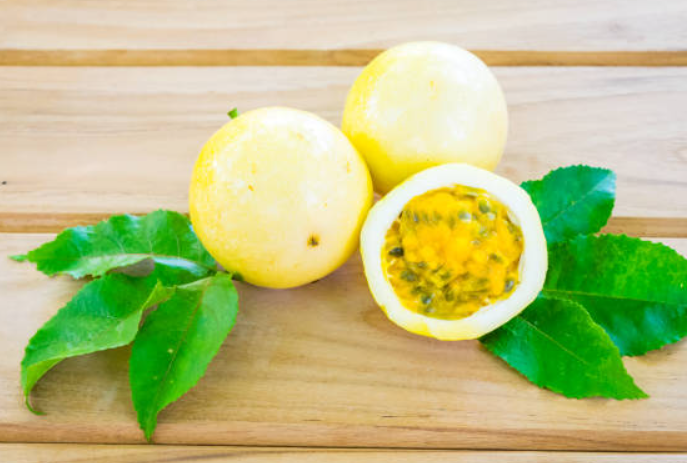maracuya: (182, 103, 372, 293)
